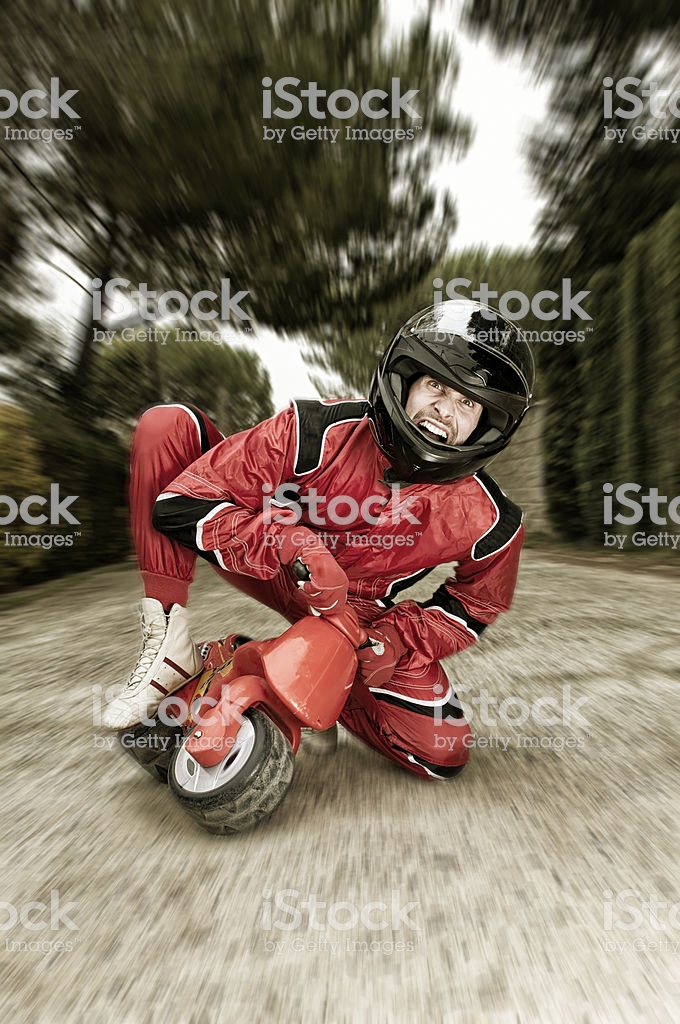helmet: (390, 306, 523, 484)
